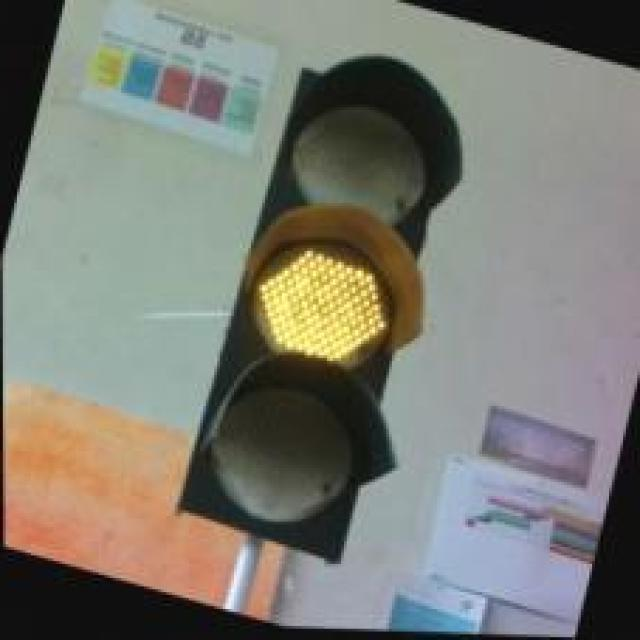yellow_light: (178, 54, 459, 560)
